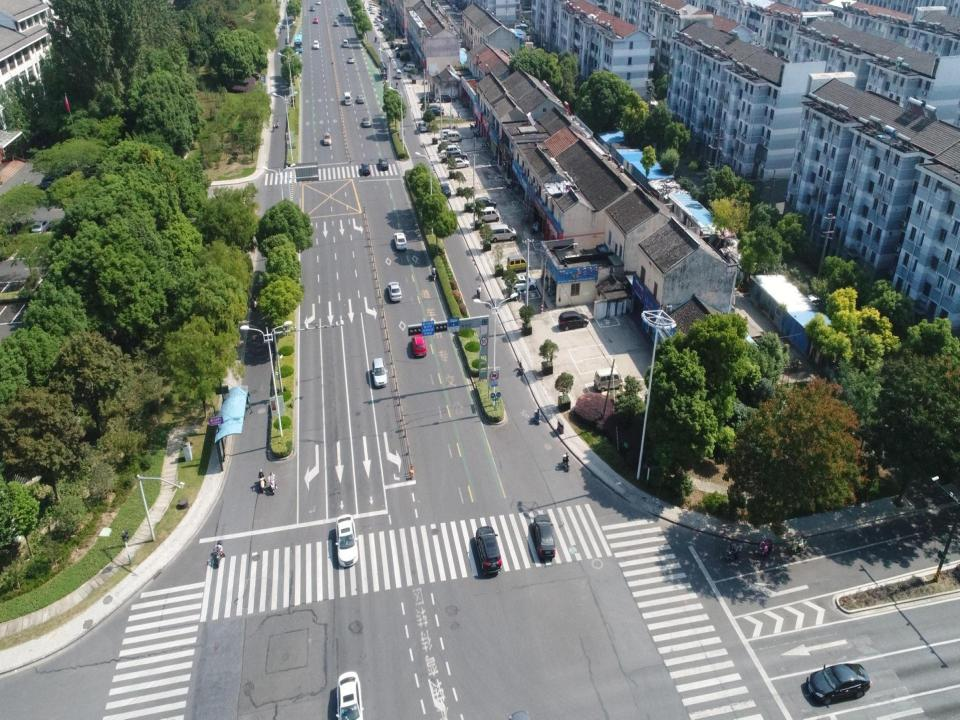bus: (293, 34, 303, 54)
car: (804, 664, 871, 705), (334, 514, 359, 568), (475, 524, 502, 574), (334, 672, 363, 718), (532, 515, 557, 559), (557, 311, 590, 330), (506, 274, 538, 292), (372, 356, 388, 386), (411, 330, 427, 357), (387, 280, 403, 302), (472, 196, 496, 210), (446, 156, 470, 170), (394, 231, 406, 249), (440, 182, 451, 199), (448, 150, 468, 159), (439, 93, 456, 103), (426, 103, 444, 112), (378, 156, 389, 170), (426, 107, 445, 115), (360, 162, 372, 174), (322, 132, 332, 146), (420, 96, 436, 104), (361, 117, 371, 127), (419, 120, 426, 132), (356, 94, 364, 104), (312, 40, 319, 49), (348, 56, 354, 64), (309, 5, 315, 12), (333, 19, 338, 26), (313, 17, 318, 23), (316, 0, 321, 5), (340, 10, 344, 15)
van: (593, 368, 623, 393), (486, 223, 517, 243), (477, 206, 500, 224), (506, 255, 528, 273), (446, 130, 462, 142), (442, 144, 462, 153), (440, 129, 454, 140), (403, 63, 416, 73), (343, 91, 351, 106), (396, 68, 402, 80), (342, 38, 348, 48)
